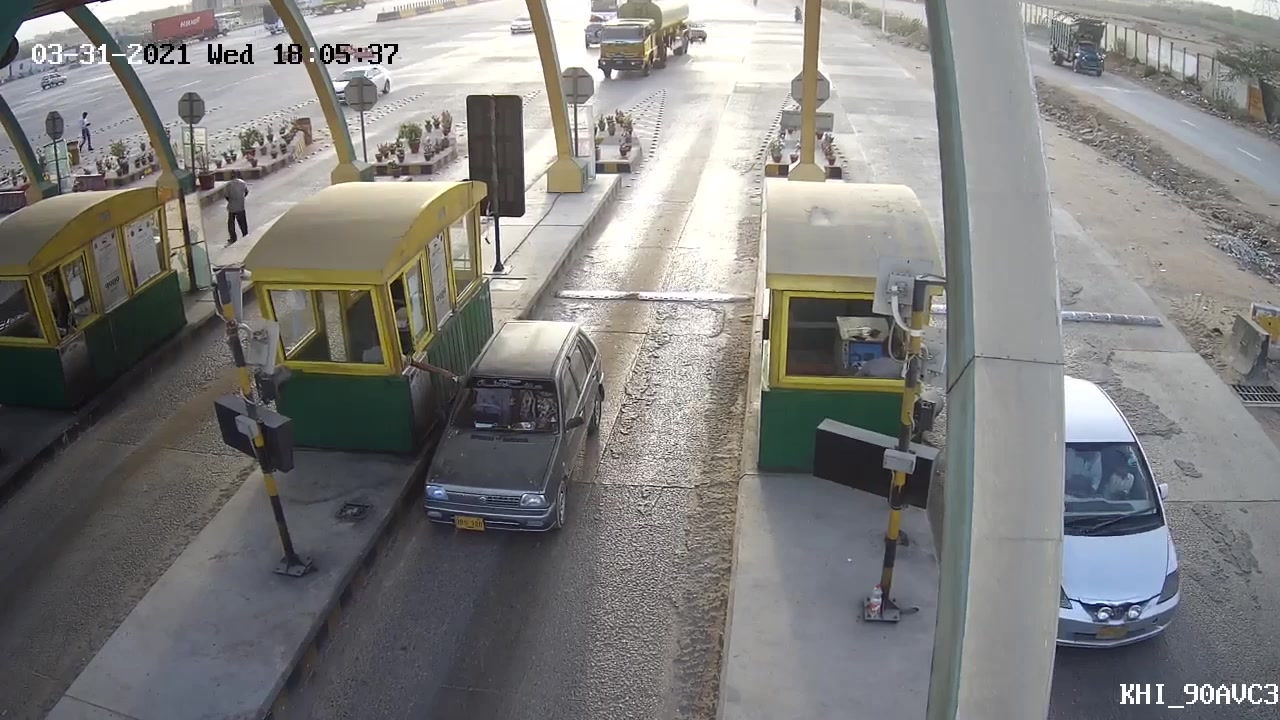F1: (408, 319, 620, 543)
